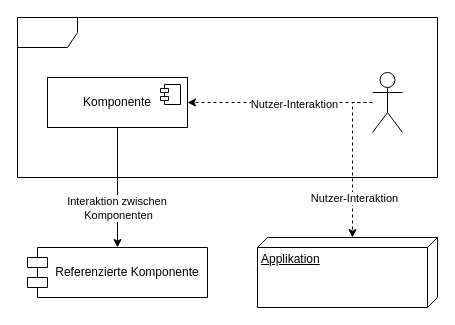
This 455x325 diagram has some shape labels left out. Here are the shapes that lost their labels. From the top down, the box of each, then its label:
(16, 16, 438, 178): Rahmen
(372, 72, 402, 132): Benutzer
